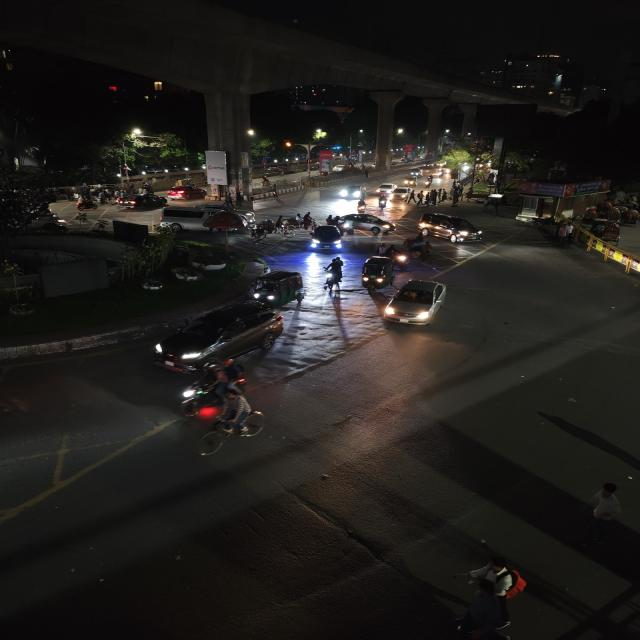bicycle: (196, 404, 267, 456)
car: (148, 302, 286, 374), (380, 279, 452, 329), (416, 211, 485, 244), (332, 212, 398, 238), (304, 224, 344, 253), (123, 194, 169, 211), (165, 186, 208, 201), (337, 183, 366, 199), (390, 188, 413, 202), (376, 182, 395, 193)
cng: (248, 269, 308, 309), (359, 256, 396, 292), (404, 176, 419, 187)
motorcycle: (175, 356, 250, 418), (320, 255, 348, 296), (354, 198, 370, 214), (377, 196, 391, 211), (423, 178, 434, 188)
pedestrian: (447, 563, 529, 640), (579, 481, 623, 549), (449, 187, 462, 206), (558, 224, 568, 243), (483, 196, 493, 214), (416, 191, 427, 207), (494, 199, 502, 218), (436, 186, 444, 202), (427, 191, 436, 203)
rickshaw: (202, 209, 252, 235), (401, 238, 431, 262), (258, 221, 295, 240)
